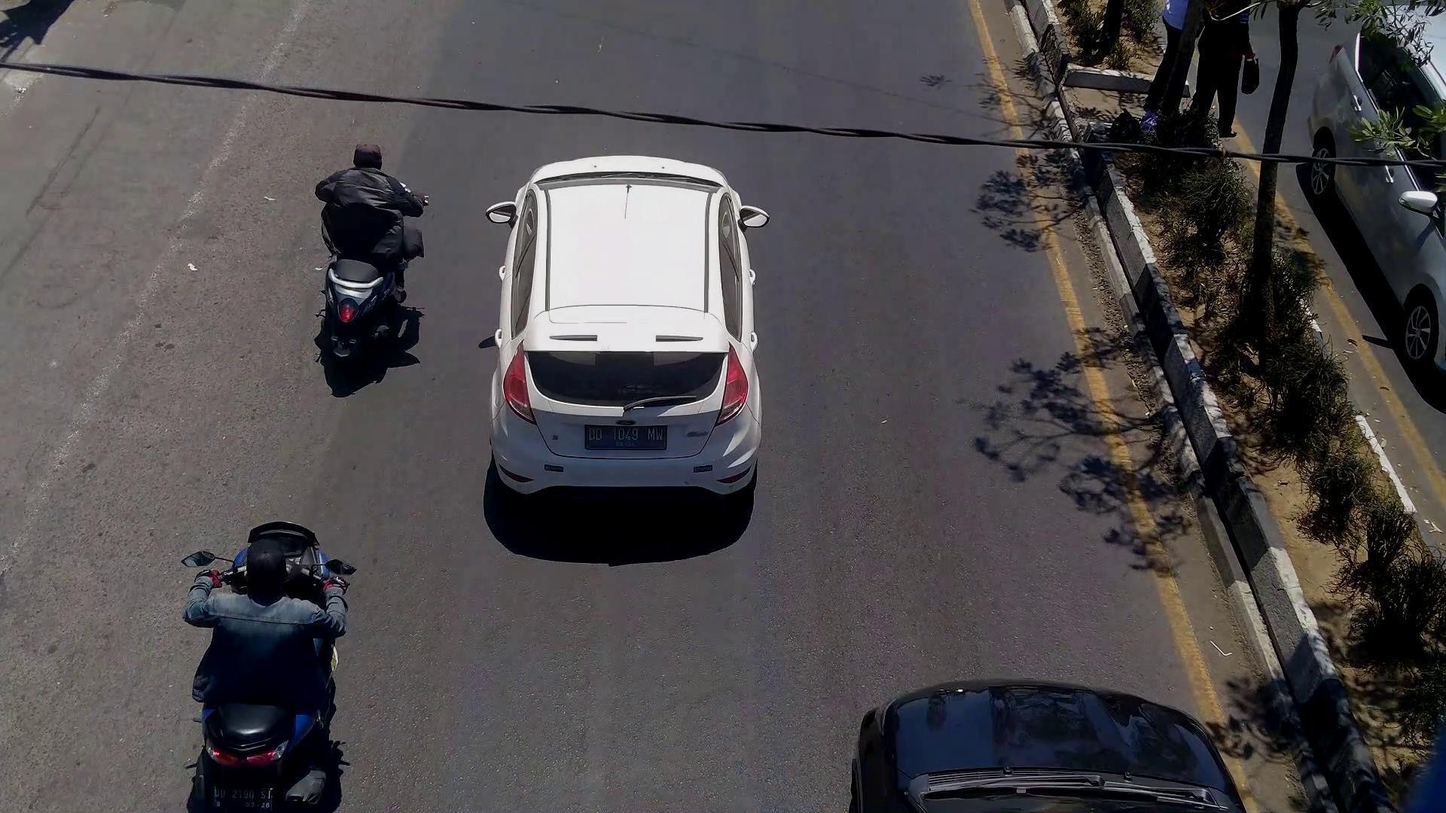bike: (179, 517, 358, 813), (313, 173, 432, 359)
no-helmet: (240, 532, 296, 605), (346, 136, 394, 178)
number-plate: (213, 784, 273, 811)
rider: (185, 535, 351, 712), (315, 136, 428, 265)
